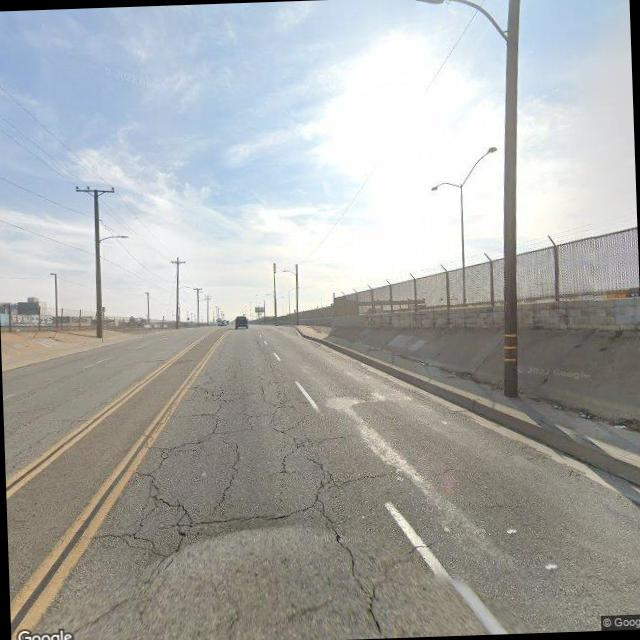crack: (66, 362, 417, 640)
